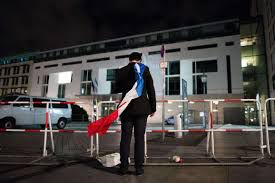French Flag: (89, 64, 144, 134)
